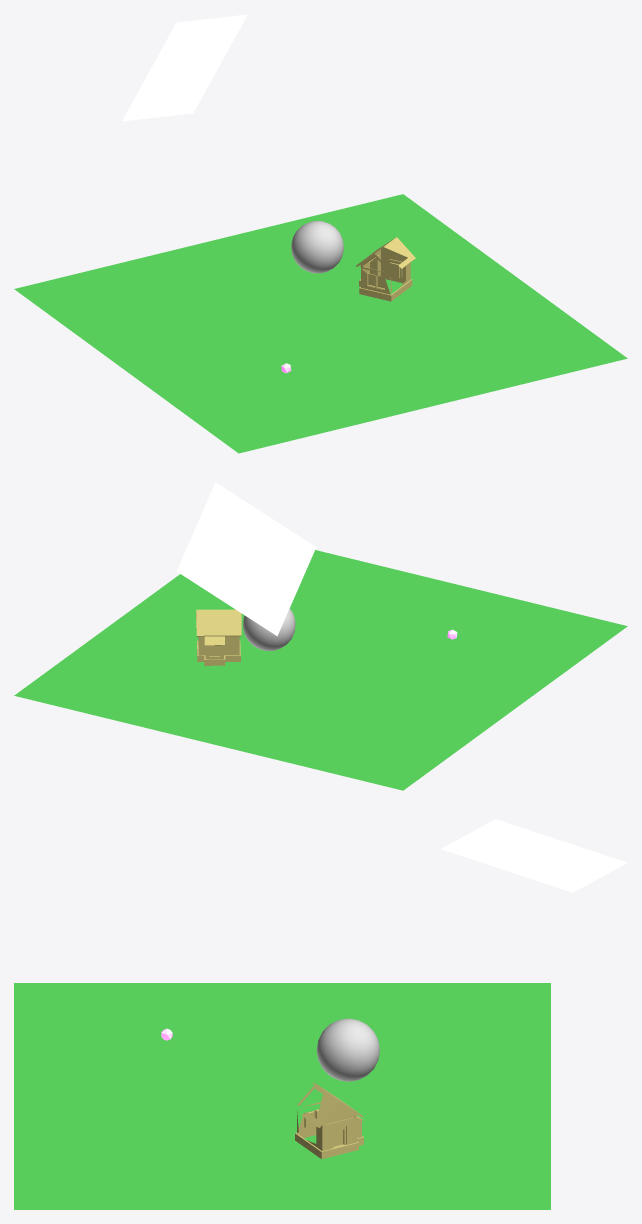
File: low_poly_house.glb
3 renders of one model, top to bottom at view 1: azimuth 30°, elevation 25°; view 2: azimuth 150°, elevation 25°; view 3: azimuth 270°, elevation 25°, orthographic. The views are drawn at different scales.
Visible parts, largest first — view 1: Plane.002, Plane.001, Box001_02 - Default_0, Icosphere; view 2: Plane.002, Plane.001, Box001_02 - Default_0, Icosphere; view 3: Plane.002, Plane.001, Box001_02 - Default_0, Icosphere.
Part boxes in pixels (x1,y1,x2,y2): Plane.002: (14,194,627,453); Plane.001: (122,14,247,121); Box001_02 - Default_0: (356,237,415,301); Icosphere: (291,221,343,273); Plane.002: (14,550,627,790); Plane.001: (176,482,316,636); Box001_02 - Default_0: (196,609,241,665); Icosphere: (243,608,295,650); Plane.002: (14,983,550,1209); Plane.001: (441,819,627,892); Box001_02 - Default_0: (295,1082,363,1159); Icosphere: (316,1018,379,1081).
Bounding box in the file's own units: 79.84 × 47.15 × 91.28.
